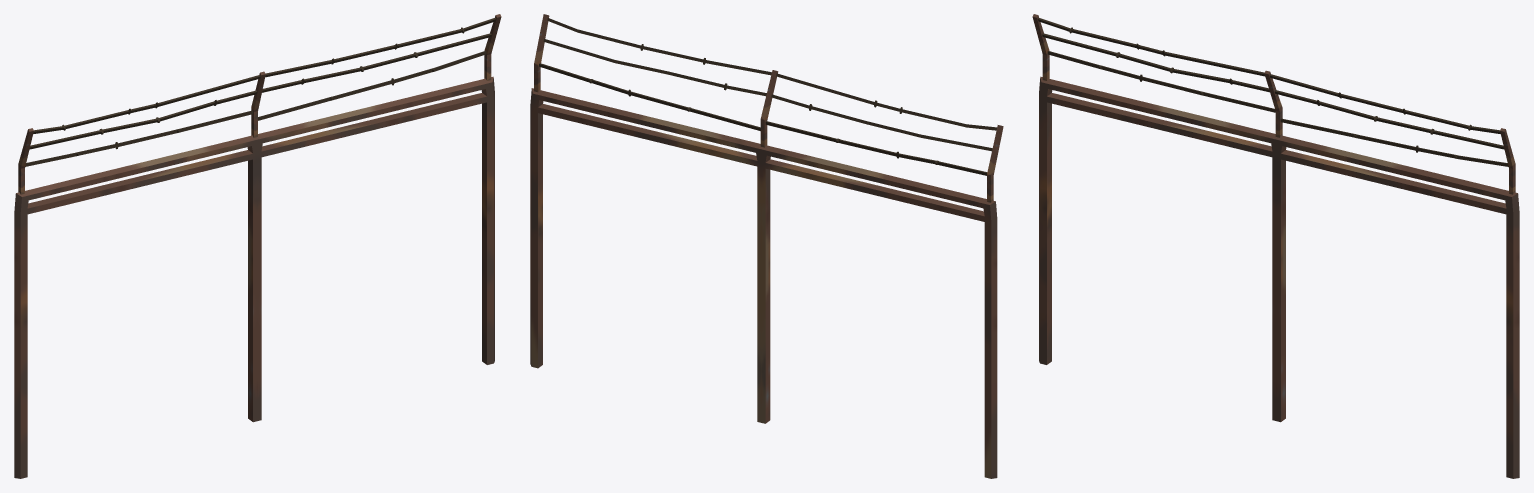
The model's file is SM_Prop_Fence_02.obj.
The picture shows the model from 3 angles, left to right: view 1: azimuth 30°, elevation 25°; view 2: azimuth 150°, elevation 25°; view 3: azimuth 330°, elevation 25°; orthographic projection. The views are drawn at different scales.
Parts seen in each view (by area): view 1: SM_Prop_Fence_02_0; view 2: SM_Prop_Fence_02_0; view 3: SM_Prop_Fence_02_0.
Part boxes in pixels (box(x1,y1,x2,y2)): SM_Prop_Fence_02_0: box(14, 14, 501, 478); SM_Prop_Fence_02_0: box(530, 14, 1003, 478); SM_Prop_Fence_02_0: box(1032, 14, 1519, 478).
Bounding box in the file's own units: 3.94 × 2.78 × 0.1887.
1 material, 1 textured.
